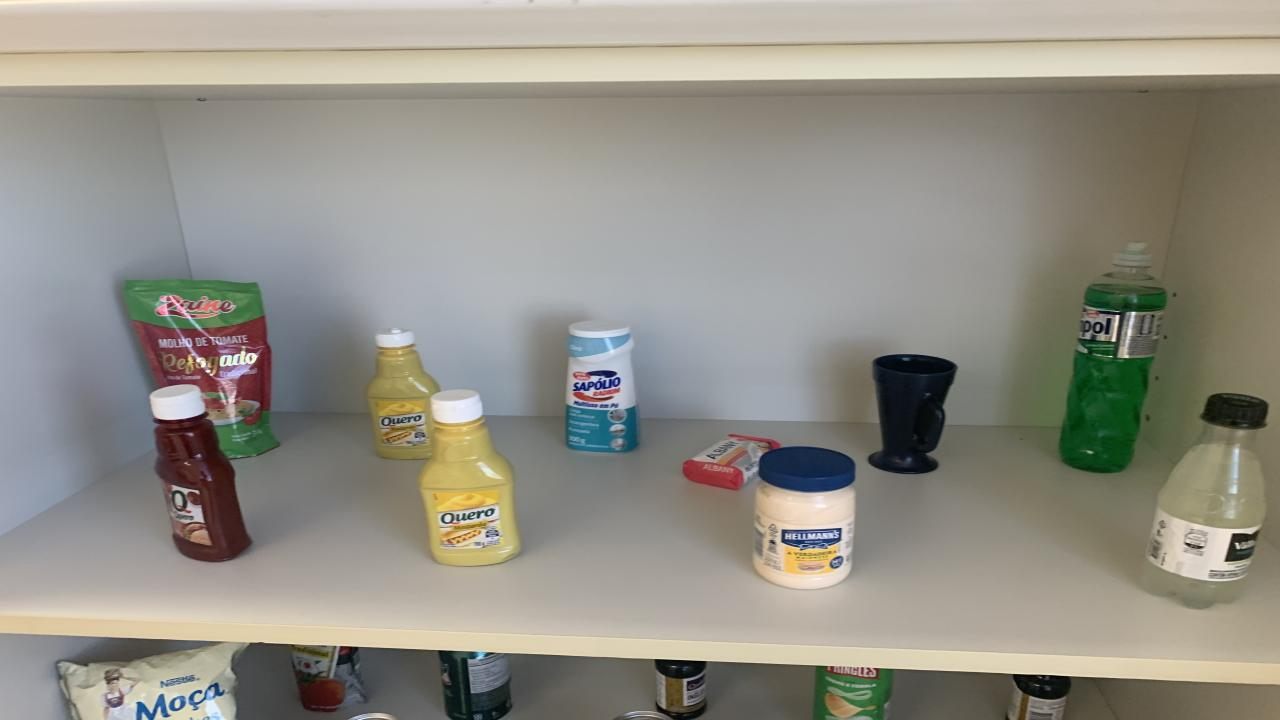Cleaner-Cleanup_Items: (565, 321, 640, 452)
Detergent-Cleanup_Items: (1060, 242, 1168, 472)
English_Sauce-Pantry_Items: (655, 660, 705, 718), (1008, 675, 1070, 720)
Flakes-Snacks: (58, 643, 248, 720)
Ketchup-Pantry_Items: (150, 384, 250, 562)
Mayonnaise-Pantry_Items: (752, 446, 855, 589)
Mustard-Pantry_Items: (418, 390, 520, 566), (365, 328, 440, 459)
Pringles-Snacks: (812, 666, 892, 720)
Soap-Cleanup_Items: (682, 435, 780, 489)
Soda-Drinks: (1142, 394, 1268, 608)
Tea-Drinks: (440, 651, 512, 720)
Tomato_Sauce-Pantry_Items: (125, 279, 278, 458), (290, 645, 368, 712)
